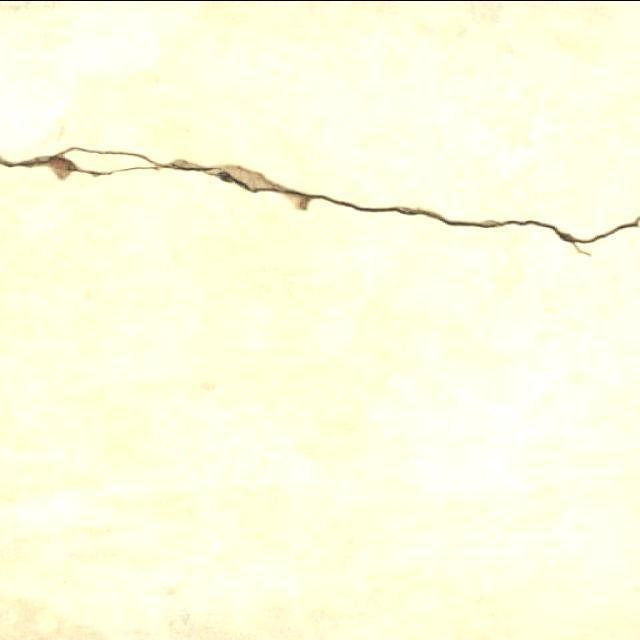crack: (0, 143, 639, 255), (7, 145, 306, 203), (9, 145, 175, 172), (6, 152, 68, 172)
